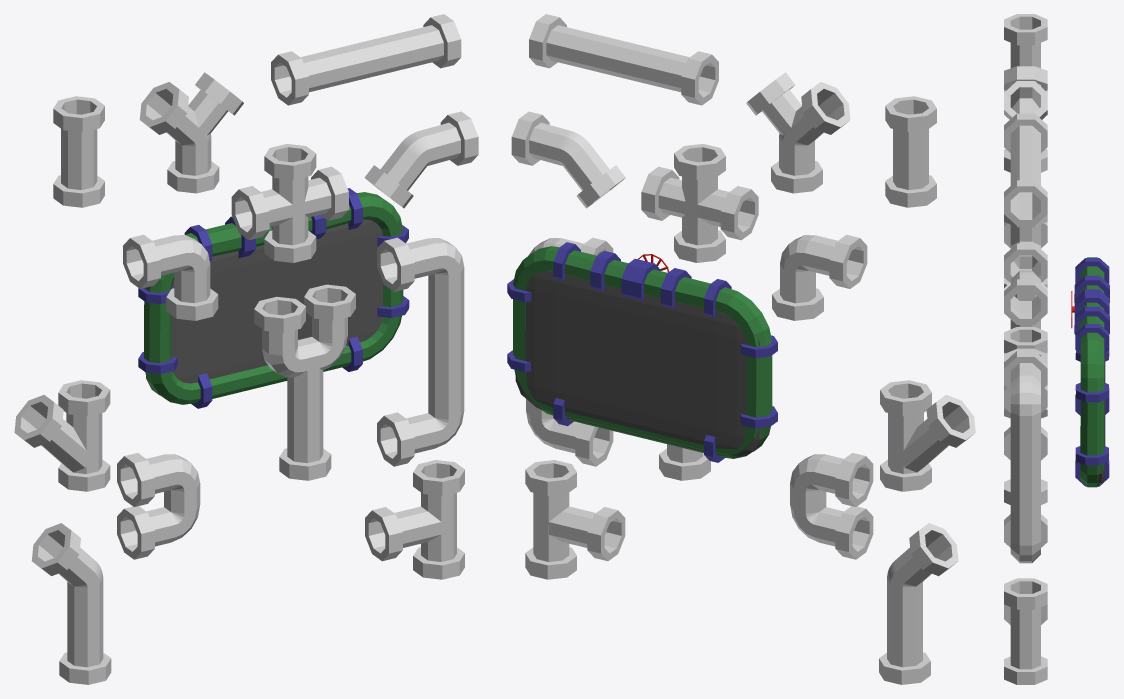
Rendered from pipeyButton.fbx.
The picture shows the model from 3 angles, left to right: view 1: azimuth 30°, elevation 25°; view 2: azimuth 150°, elevation 25°; view 3: azimuth 270°, elevation 25°; orthographic projection. The views are drawn at different scales.
Visible parts, largest first — view 1: Cube, Cylinder.011, Cylinder.014, Cylinder.017, Cylinder.007, Cylinder.002, Cylinder.020, Cylinder.016, Cylinder.021, Cylinder.018, Cylinder.013, Cylinder.023 (+1 smaller); view 2: Cube, Cylinder.017, Cylinder.007, Cylinder.002, Cylinder.020, Cylinder.016, Cylinder.021, Cylinder.018, Cylinder.013, Cylinder.023, Cylinder.010, Cylinder.011 (+1 smaller); view 3: Cube, Cylinder.011, Cylinder.007, Cylinder.002, Cylinder.017, Cylinder.018, Cylinder.010, Cylinder.023, Cylinder.014, Cylinder.016.
Boxes of the visible parts, left/top/right/bottom form: Cube: left=138, top=188, right=409, bottom=408; Cylinder.011: left=377, top=237, right=464, bottom=466; Cylinder.014: left=254, top=284, right=355, bottom=480; Cylinder.017: left=231, top=144, right=348, bottom=262; Cylinder.007: left=271, top=14, right=461, bottom=105; Cylinder.002: left=365, top=460, right=464, bottom=579; Cylinder.020: left=14, top=380, right=110, bottom=491; Cylinder.016: left=117, top=453, right=200, bottom=559; Cylinder.021: left=31, top=523, right=111, bottom=684; Cylinder.018: left=139, top=72, right=243, bottom=193; Cylinder.013: left=123, top=234, right=218, bottom=320; Cylinder.023: left=364, top=111, right=478, bottom=208; Cube: left=507, top=242, right=777, bottom=462; Cylinder.017: left=641, top=144, right=758, bottom=262; Cylinder.007: left=529, top=14, right=718, bottom=105; Cylinder.002: left=525, top=460, right=625, bottom=579; Cylinder.020: left=880, top=380, right=975, bottom=491; Cylinder.016: left=790, top=453, right=873, bottom=559; Cylinder.021: left=879, top=523, right=958, bottom=684; Cylinder.018: left=746, top=72, right=850, bottom=193; Cylinder.013: left=772, top=234, right=867, bottom=320; Cylinder.023: left=511, top=111, right=625, bottom=208; Cylinder.010: left=885, top=96, right=936, bottom=207; Cylinder.011: left=526, top=237, right=613, bottom=466; Cube: left=1071, top=257, right=1109, bottom=487; Cylinder.011: left=1004, top=351, right=1047, bottom=563; Cylinder.007: left=1004, top=113, right=1047, bottom=225; Cylinder.002: left=1004, top=578, right=1047, bottom=684; Cylinder.017: left=1004, top=214, right=1047, bottom=300; Cylinder.018: left=1004, top=66, right=1047, bottom=172; Cylinder.010: left=1004, top=14, right=1047, bottom=92; Cylinder.023: left=1004, top=270, right=1047, bottom=324; Cylinder.014: left=1004, top=327, right=1047, bottom=504; Cylinder.016: left=1004, top=385, right=1047, bottom=460.
Bounding box in the file's own units: 366 × 445 × 83.28.
